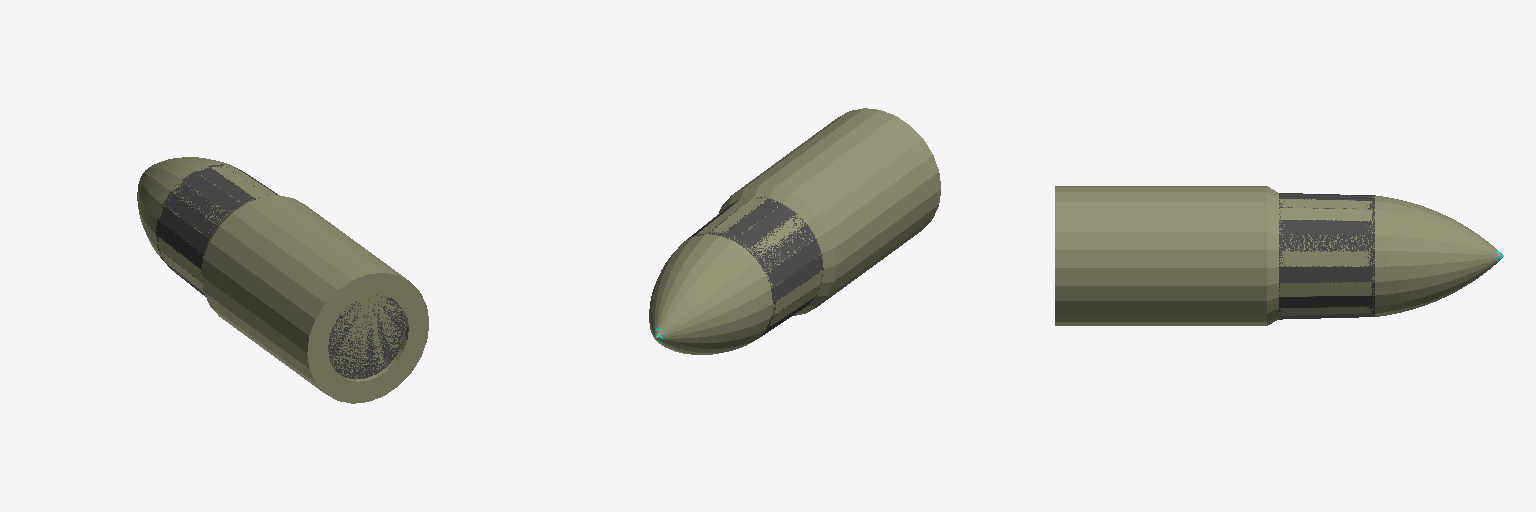
File: bullet.obj
3 renders of one model, left to right at view 1: azimuth 30°, elevation 25°; view 2: azimuth 150°, elevation 25°; view 3: azimuth 270°, elevation 25°, orthographic.
Parts seen in each view (by area): view 1: Mesh1 Group1 Model; view 2: Mesh1 Group1 Model; view 3: Mesh1 Group1 Model.
Part boxes in pixels (left/top/right/bottom): Mesh1 Group1 Model: left=137, top=157, right=428, bottom=403; Mesh1 Group1 Model: left=649, top=108, right=940, bottom=354; Mesh1 Group1 Model: left=1055, top=186, right=1503, bottom=325.
Size of the model in its own units: 0.0385 by 0.0385 by 0.1226.